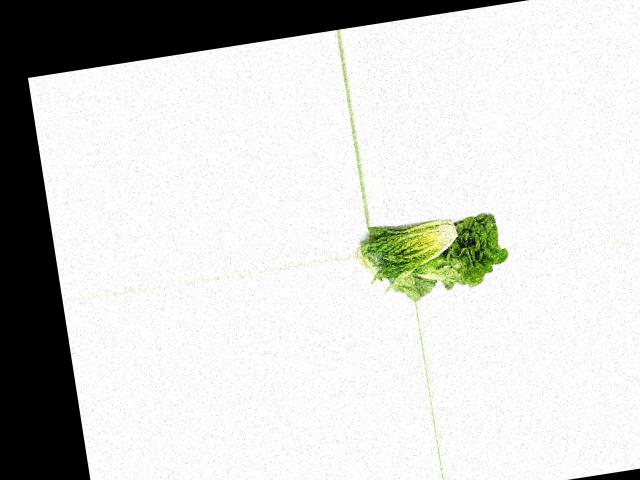lettuce: (411, 206, 509, 294)
